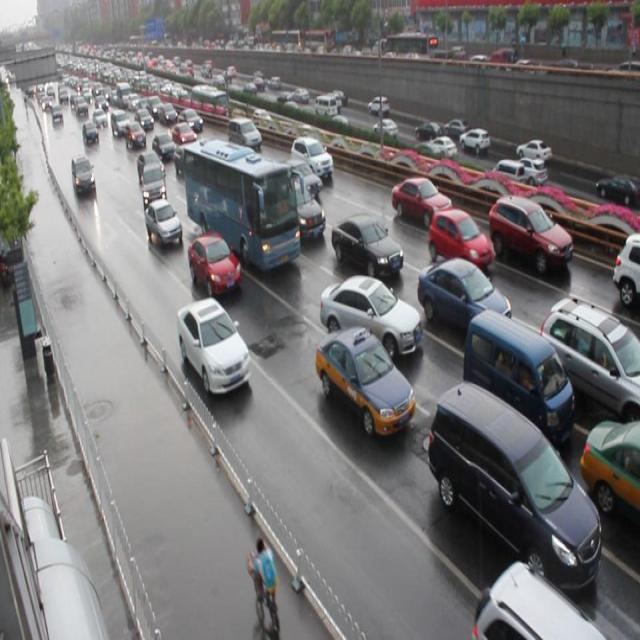car: (537, 296, 640, 427), (470, 557, 604, 640), (316, 324, 414, 436), (318, 272, 422, 362), (417, 253, 510, 337), (176, 296, 252, 395), (486, 192, 572, 274), (577, 418, 640, 528), (329, 214, 402, 277), (428, 207, 491, 270), (187, 231, 242, 299), (390, 174, 453, 229), (279, 177, 326, 239), (611, 230, 640, 306), (289, 135, 334, 183), (145, 196, 184, 245), (279, 158, 322, 198), (141, 159, 167, 207)
truck: (427, 382, 600, 595), (462, 308, 571, 439), (227, 116, 261, 152)
van: (182, 139, 299, 272)
